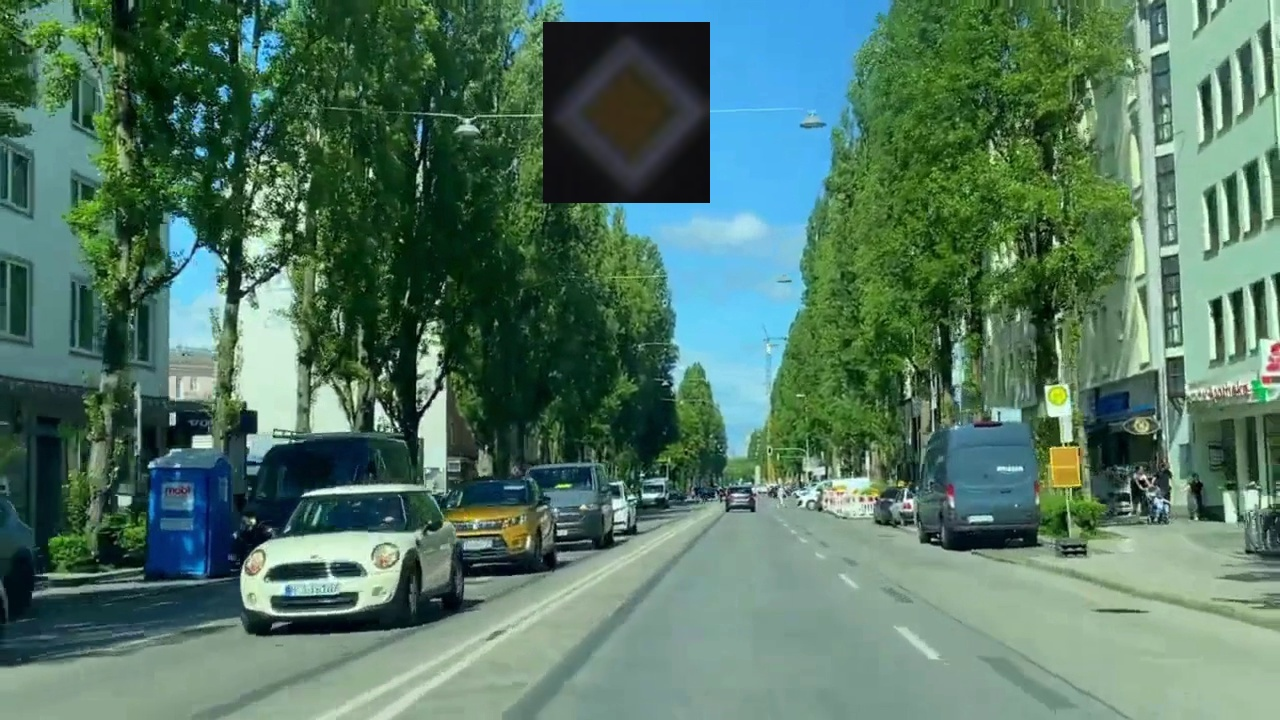Priority road: (543, 22, 710, 203)
